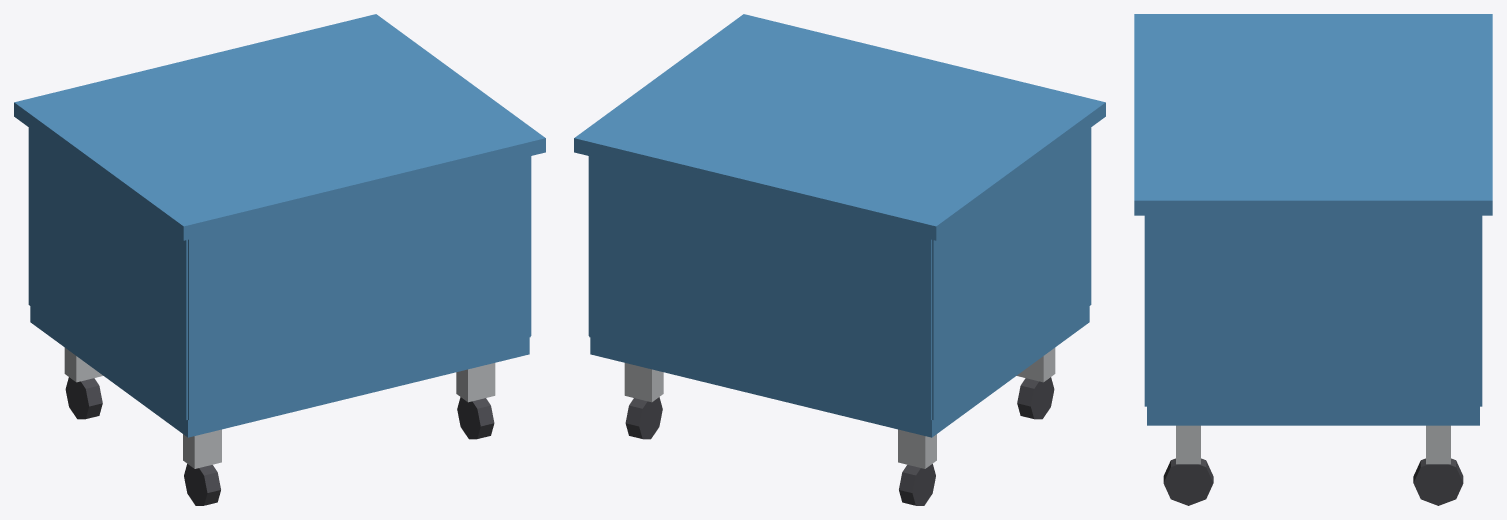
Rendered from SM_PROP_MEAT_BIN.fbx.
3 views of the same model, side by side, from view 1: azimuth 30°, elevation 25°; view 2: azimuth 150°, elevation 25°; view 3: azimuth 270°, elevation 25° (orthographic). The views are drawn at different scales.
Visible parts, largest first — view 1: SM_PROP_MEAT_BIN; view 2: SM_PROP_MEAT_BIN; view 3: SM_PROP_MEAT_BIN.
Boxes of the visible parts, <box> form: SM_PROP_MEAT_BIN: <box>14,14,545,505</box>; SM_PROP_MEAT_BIN: <box>574,14,1105,505</box>; SM_PROP_MEAT_BIN: <box>1134,14,1492,505</box>.
Bounding box in the file's own units: 106 × 86 × 86.
